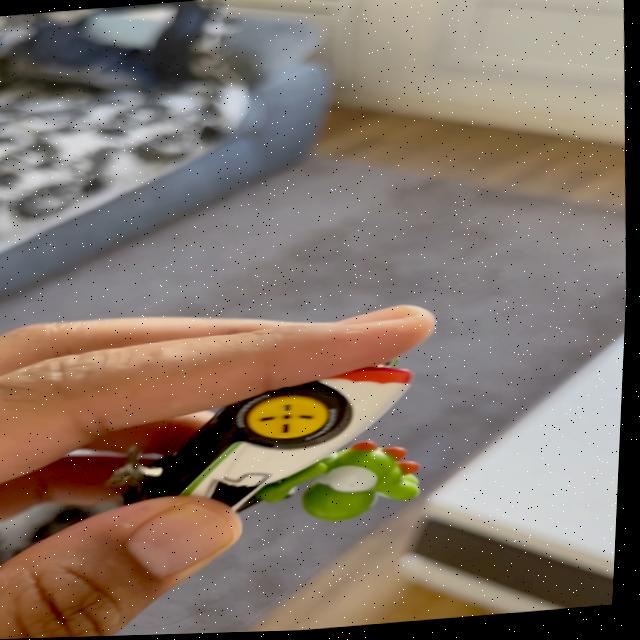yoshi: (92, 343, 448, 571)
